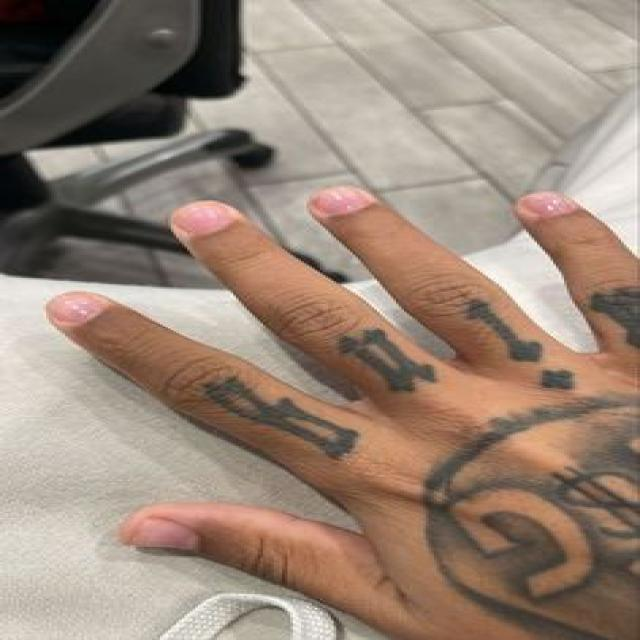Fingernail: (135, 517, 201, 554), (48, 290, 111, 324), (315, 186, 370, 217), (180, 206, 233, 235), (525, 190, 577, 219)
